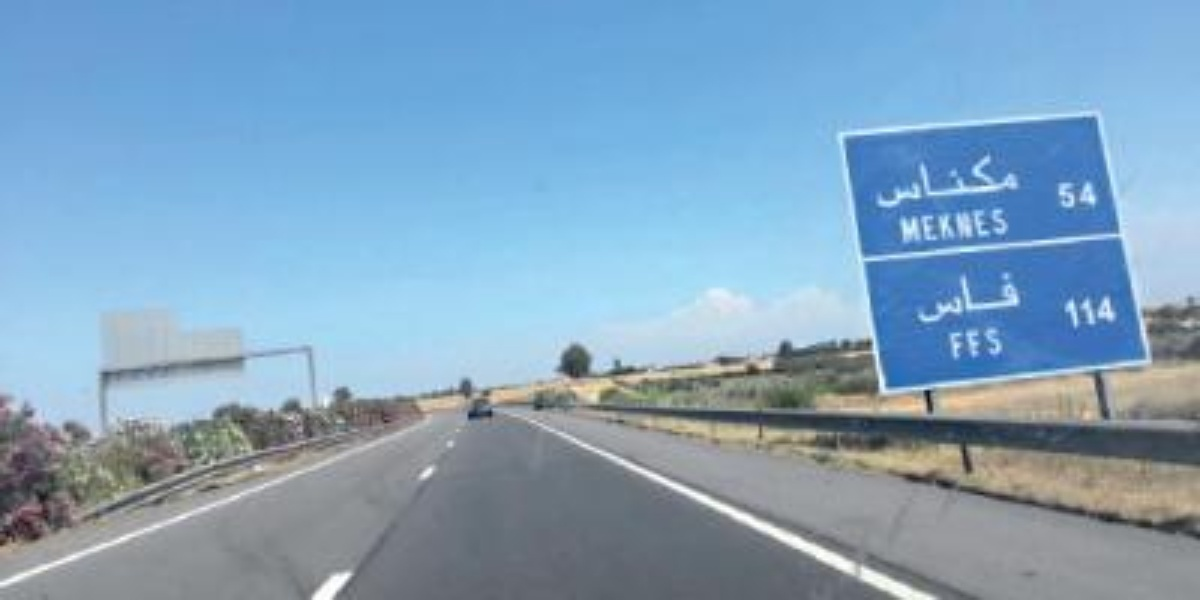text: (929, 262, 944, 328), (945, 262, 960, 328), (961, 262, 976, 328), (977, 262, 992, 328), (993, 262, 1008, 328), (1009, 262, 1024, 328), (865, 151, 880, 214), (881, 151, 896, 214), (897, 151, 912, 214), (913, 151, 928, 214), (929, 151, 944, 214), (945, 151, 960, 214), (961, 151, 976, 214), (977, 151, 992, 214), (993, 151, 1008, 214), (1009, 151, 1024, 214), (916, 262, 928, 328), (1057, 289, 1072, 337), (1073, 289, 1088, 337), (1089, 289, 1104, 337), (1105, 289, 1120, 337), (913, 207, 928, 246), (929, 207, 944, 246), (945, 207, 960, 246), (961, 207, 976, 246), (977, 207, 992, 246), (993, 207, 1008, 246), (945, 325, 960, 364), (961, 325, 976, 364), (977, 325, 992, 364), (1057, 178, 1072, 214), (1073, 178, 1088, 214), (1025, 262, 1033, 328), (1089, 178, 1102, 214), (901, 207, 912, 246), (993, 325, 1003, 364), (1025, 151, 1027, 214), (1009, 207, 1012, 246), (1054, 178, 1056, 214), (943, 325, 944, 364)
